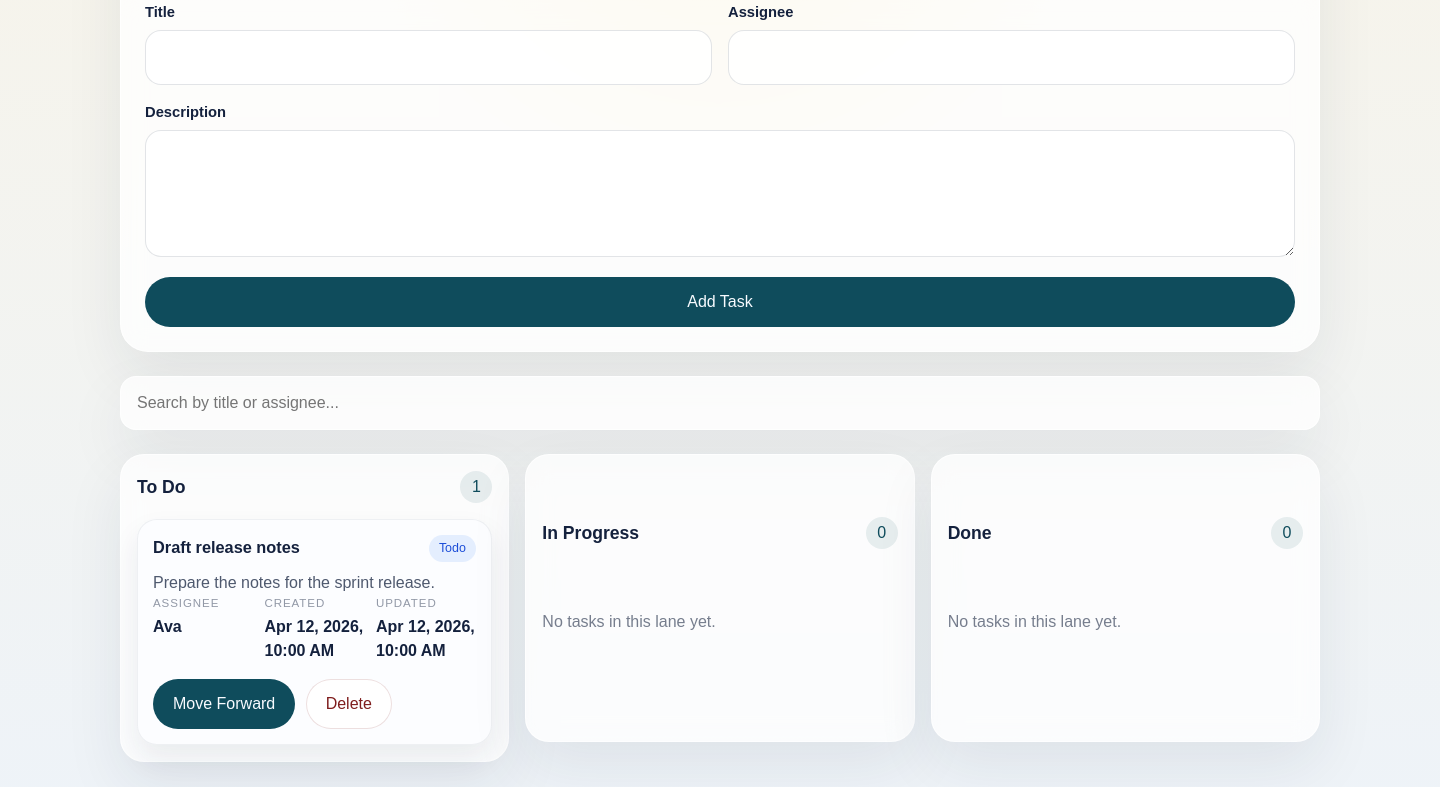
Test: App › shows an undo button after moving a task forward
The width and height of the screenshot is (1440, 787).
(page scrolled)
Click the button "Move Forward" at (224, 704), box [153,679,295,729]
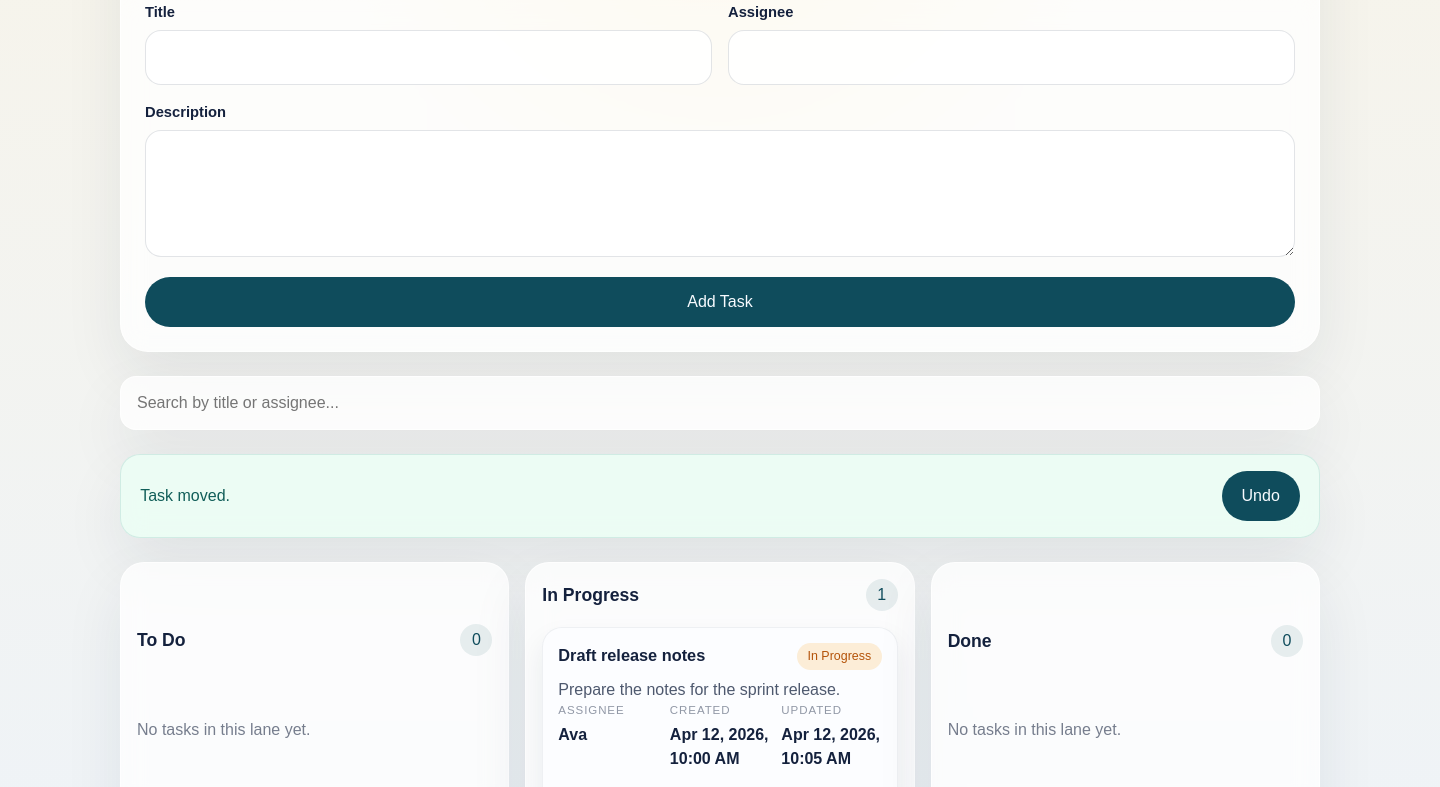
Expected: the button "Undo" is shown, [1222,471,1300,521]
